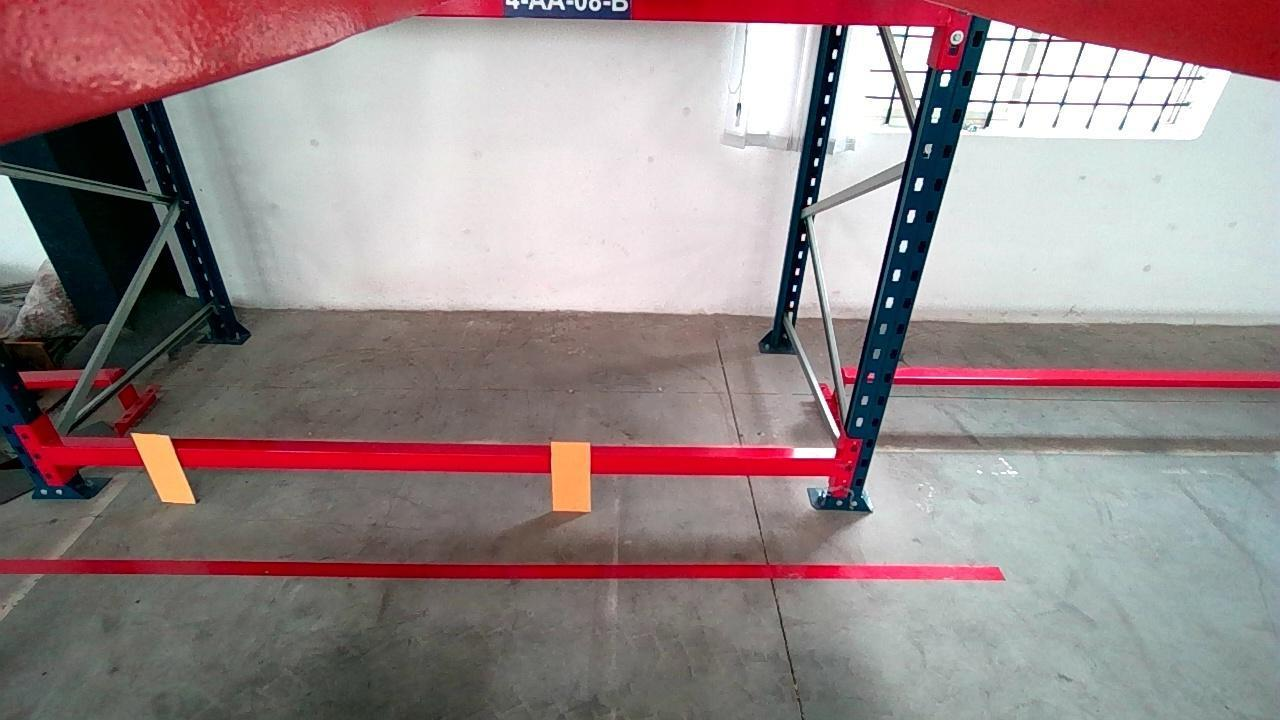h_rack: (41, 445, 834, 476)
orange_strip: (131, 431, 194, 503)
red_line: (0, 559, 1006, 581), (551, 442, 589, 511)
